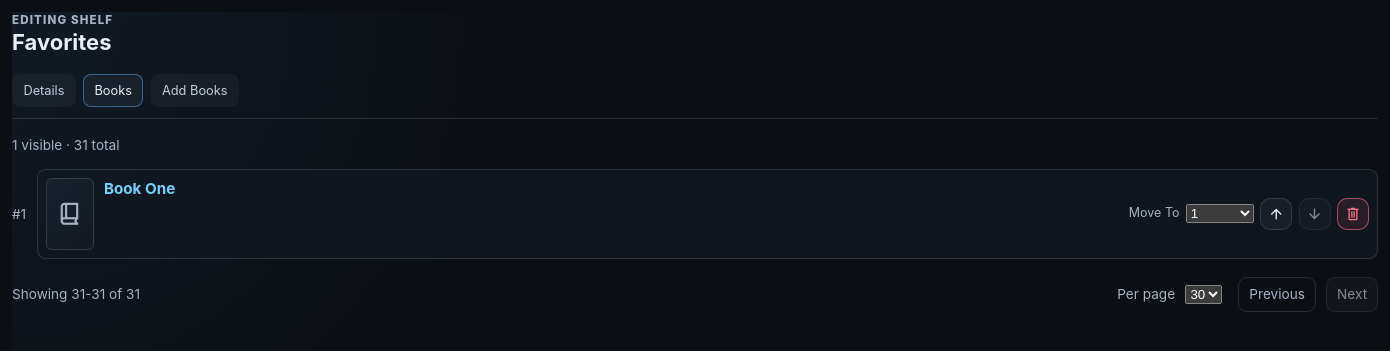
ShelfEditOrchestrator item mutations › recovers to the last valid URL page after removing the sole final-page item
Click the button named "Remove Book One from shelf": (1353, 214) [1337,198,1369,230]
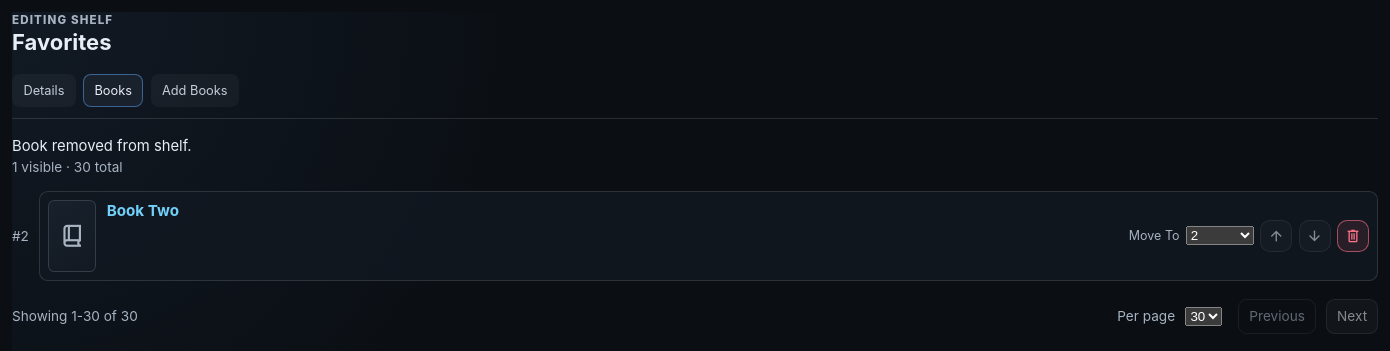
Check: the text "Book Two" is shown, box [107,201,179,220]
